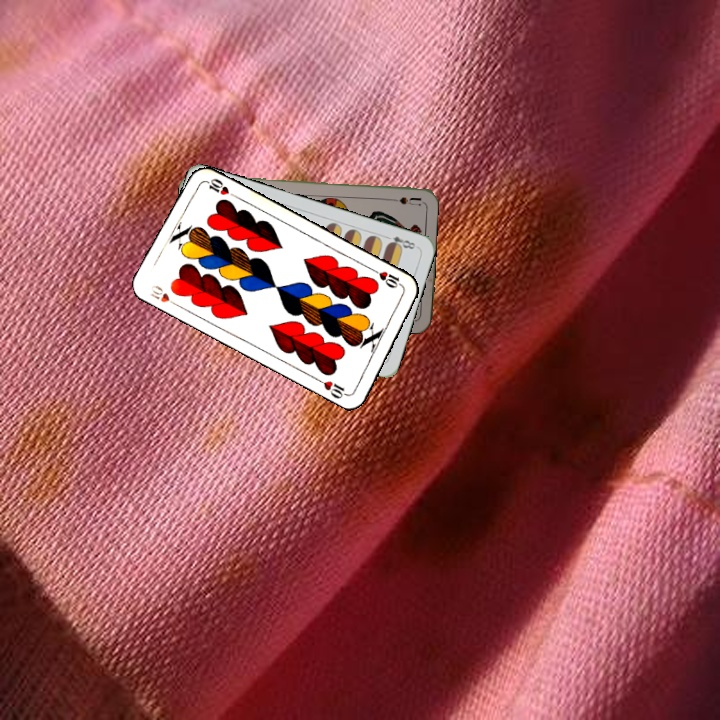E8: (380, 231, 418, 252)
H10: (146, 281, 182, 310), (369, 265, 406, 291)
SU: (382, 193, 422, 208)
